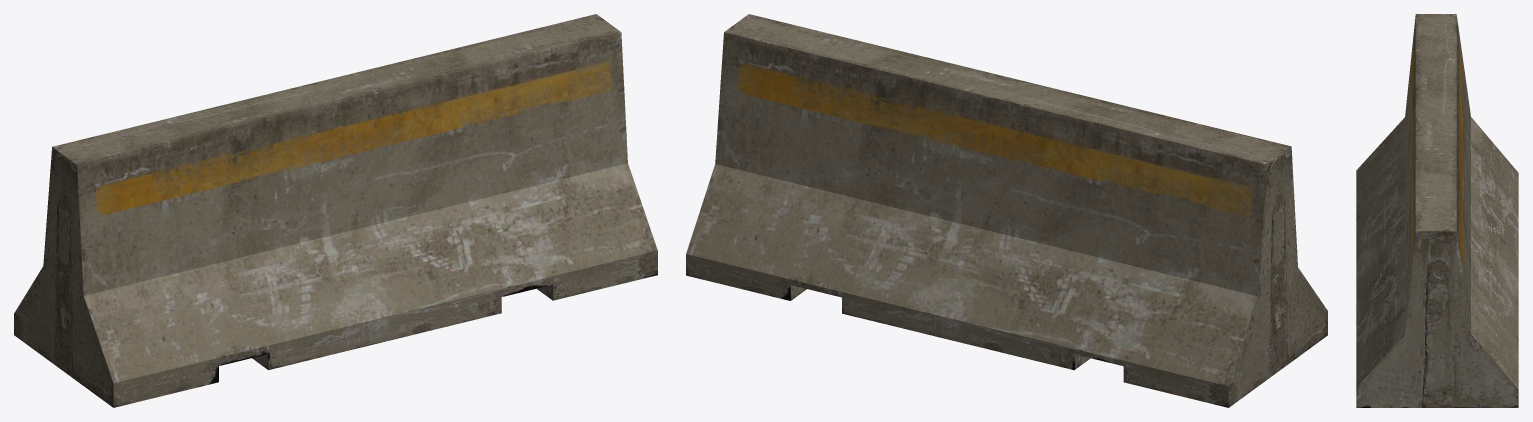
The model's file is Road_block_v1.fbx.
3 views of the same model, side by side, from view 1: azimuth 30°, elevation 25°; view 2: azimuth 150°, elevation 25°; view 3: azimuth 270°, elevation 25° (orthographic). The views are drawn at different scales.
Visible parts, largest first — view 1: Road_block_v1; view 2: Road_block_v1; view 3: Road_block_v1.
Part boxes in pixels (x1,y1,x2,y2): Road_block_v1: (14, 14, 657, 407); Road_block_v1: (686, 14, 1327, 407); Road_block_v1: (1356, 14, 1518, 407).
Bounding box in the file's own units: 251 × 95.16 × 79.33.
